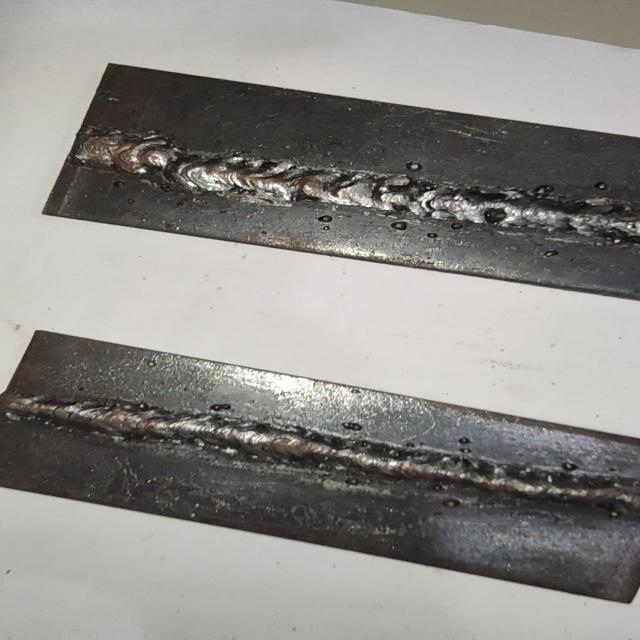Bad Weld: (2, 395, 640, 510), (71, 124, 640, 247)
Defect: (479, 182, 559, 238), (541, 452, 612, 488), (423, 470, 471, 517), (378, 201, 426, 235), (386, 160, 436, 186)
